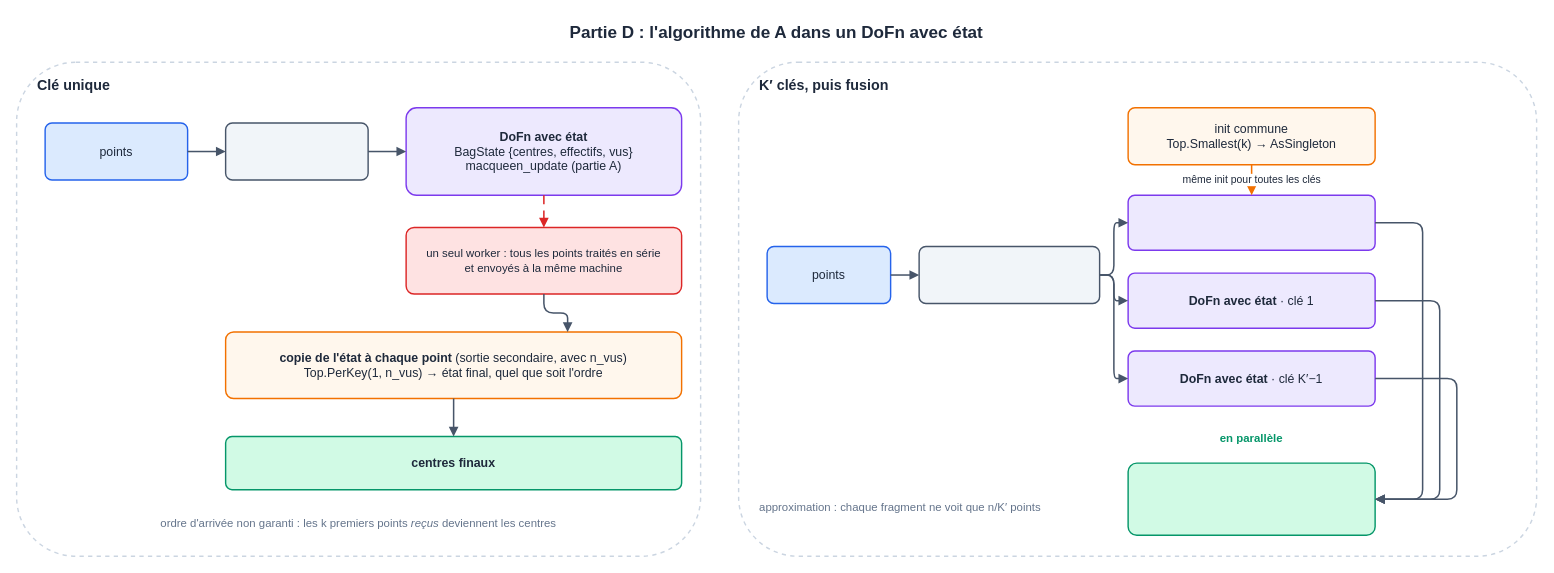
Image size: 1554x573. Some labels were removed from this diagram. Each missing label, with the centre of its shape:
"DoFn avec état · clé 0" goes at (1251,222).
"fusion μ j = Σ s n j s μ j s / Σ s n j s" goes at (1251,499).
"Map (0, point)" goes at (296,151).
"Map (hash(id) mod K′, point)" goes at (1009,274).
